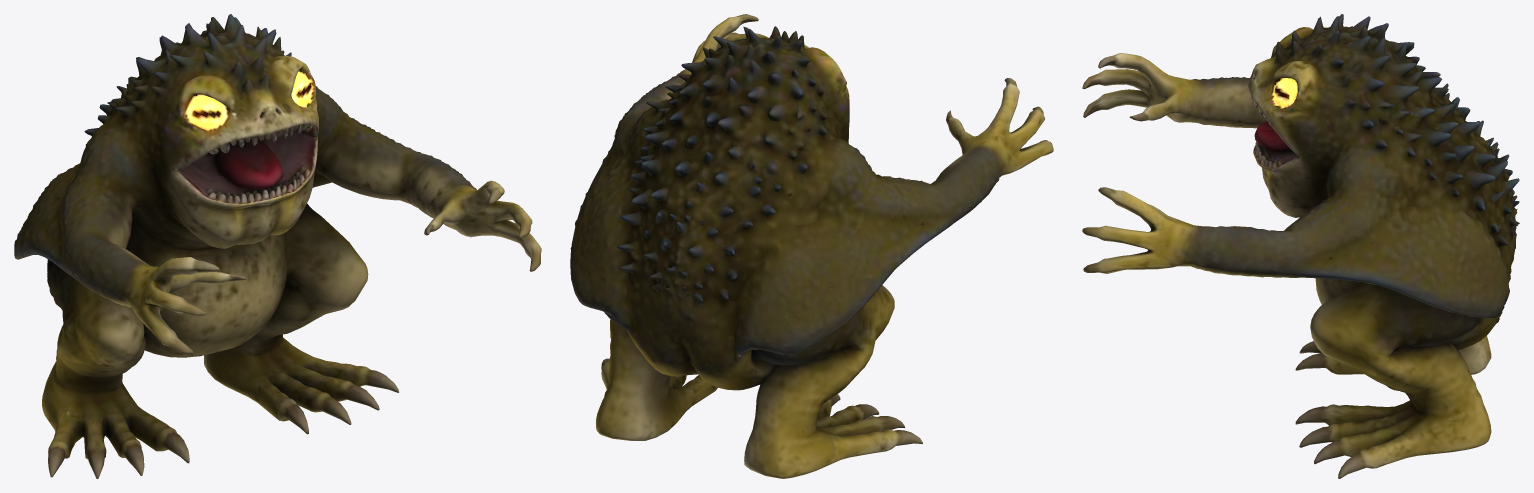
File: MZ4250 - Hydroloth.glb
3 views of the same model, side by side, from view 1: azimuth 30°, elevation 25°; view 2: azimuth 150°, elevation 25°; view 3: azimuth 270°, elevation 25° (orthographic). The views are drawn at different scales.
Visible parts, largest first — view 1: ORGANIC BASE SPHERE.003; view 2: ORGANIC BASE SPHERE.003; view 3: ORGANIC BASE SPHERE.003.
Boxes of the visible parts, box(x1,y1,x2,y2) form: ORGANIC BASE SPHERE.003: box(14, 14, 541, 478); ORGANIC BASE SPHERE.003: box(570, 14, 1053, 478); ORGANIC BASE SPHERE.003: box(1082, 14, 1519, 478).
Size of the model in its own units: 16.18 by 16.52 by 17.36.
Materials: 1 (1 with a texture image).
